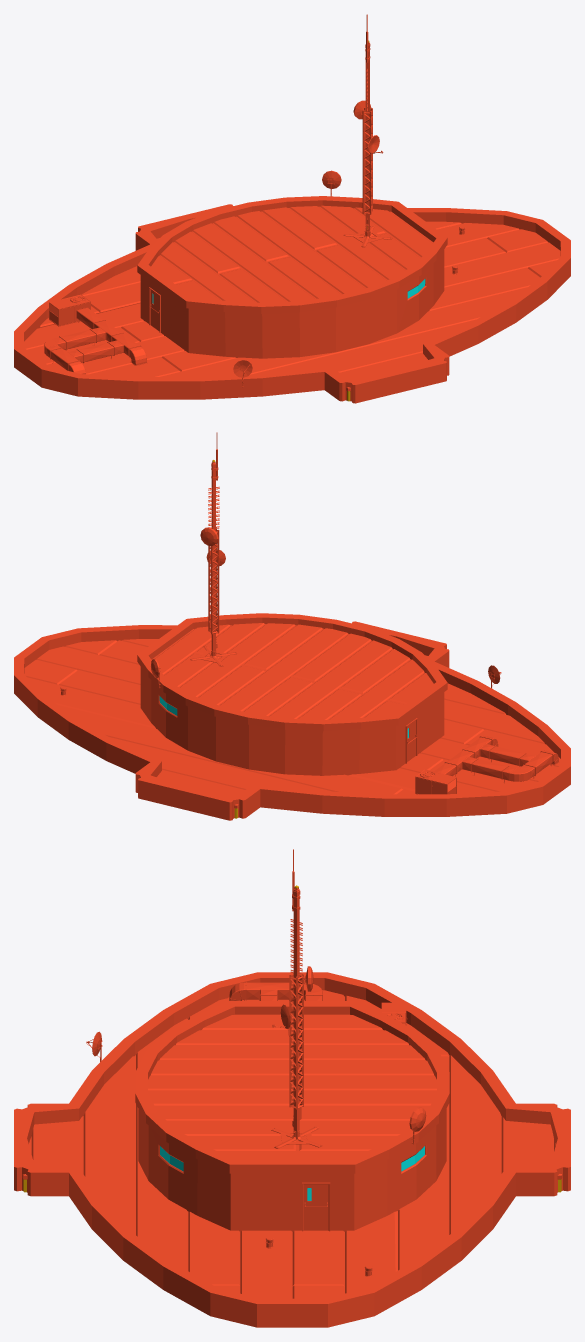
File: SM_Skyscraper_B_Roof_Small_City.fbx
The picture shows the model from 3 angles, top to bottom: view 1: azimuth 30°, elevation 25°; view 2: azimuth 150°, elevation 25°; view 3: azimuth 270°, elevation 25°; orthographic projection. The views are drawn at different scales.
Visible parts, largest first — view 1: SM_Skyscraper_B_Roof_Small_City; view 2: SM_Skyscraper_B_Roof_Small_City; view 3: SM_Skyscraper_B_Roof_Small_City.
Part boxes in pixels (box(x1,y1,x2,y2)): SM_Skyscraper_B_Roof_Small_City: box(14, 14, 570, 403); SM_Skyscraper_B_Roof_Small_City: box(14, 432, 570, 820); SM_Skyscraper_B_Roof_Small_City: box(14, 849, 570, 1327).
Size of the model in its own units: 31.26 by 15.79 by 22.19.
